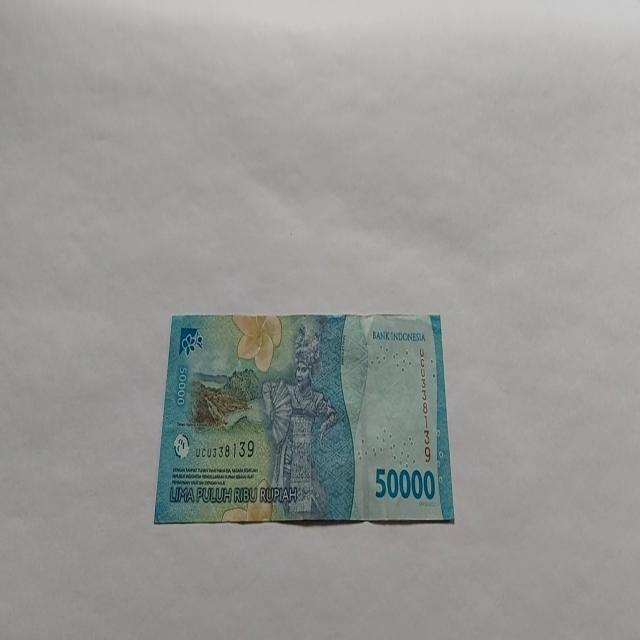lima puluh ribu rupiah: (153, 311, 455, 525)
